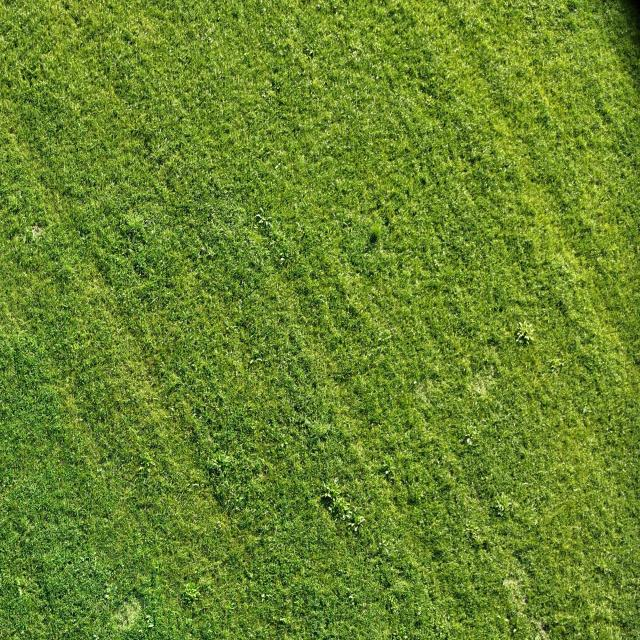rumex: (320, 485, 369, 537), (205, 443, 234, 487), (492, 488, 526, 525), (345, 36, 373, 74), (513, 316, 543, 350), (250, 199, 276, 231), (182, 580, 203, 606)
